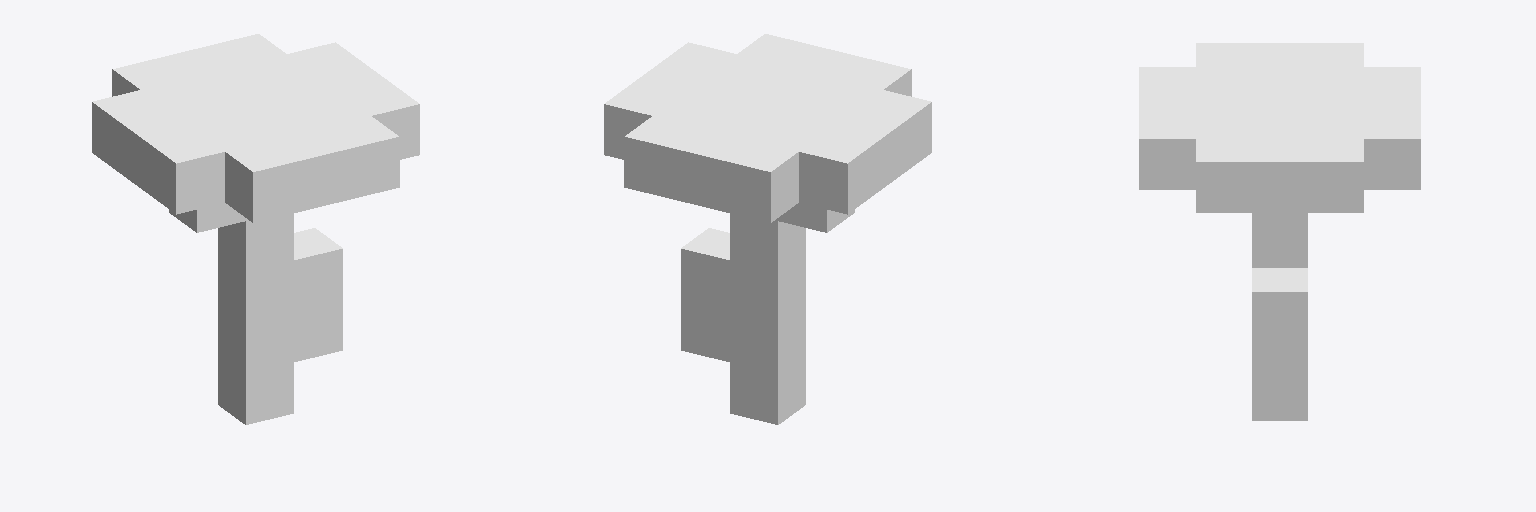
File: yellowflower.obj
The picture shows the model from 3 angles: view 1: azimuth 30°, elevation 25°; view 2: azimuth 150°, elevation 25°; view 3: azimuth 270°, elevation 25°; orthographic projection.
Parts seen in each view (by area): view 1: Flower.002; view 2: Flower.002; view 3: Flower.002.
Boxes of the visible parts, <box> form: Flower.002: <box>92,34,419,424</box>; Flower.002: <box>604,34,931,424</box>; Flower.002: <box>1139,43,1420,420</box>.
Bounding box in the file's own units: 5 × 6 × 5.